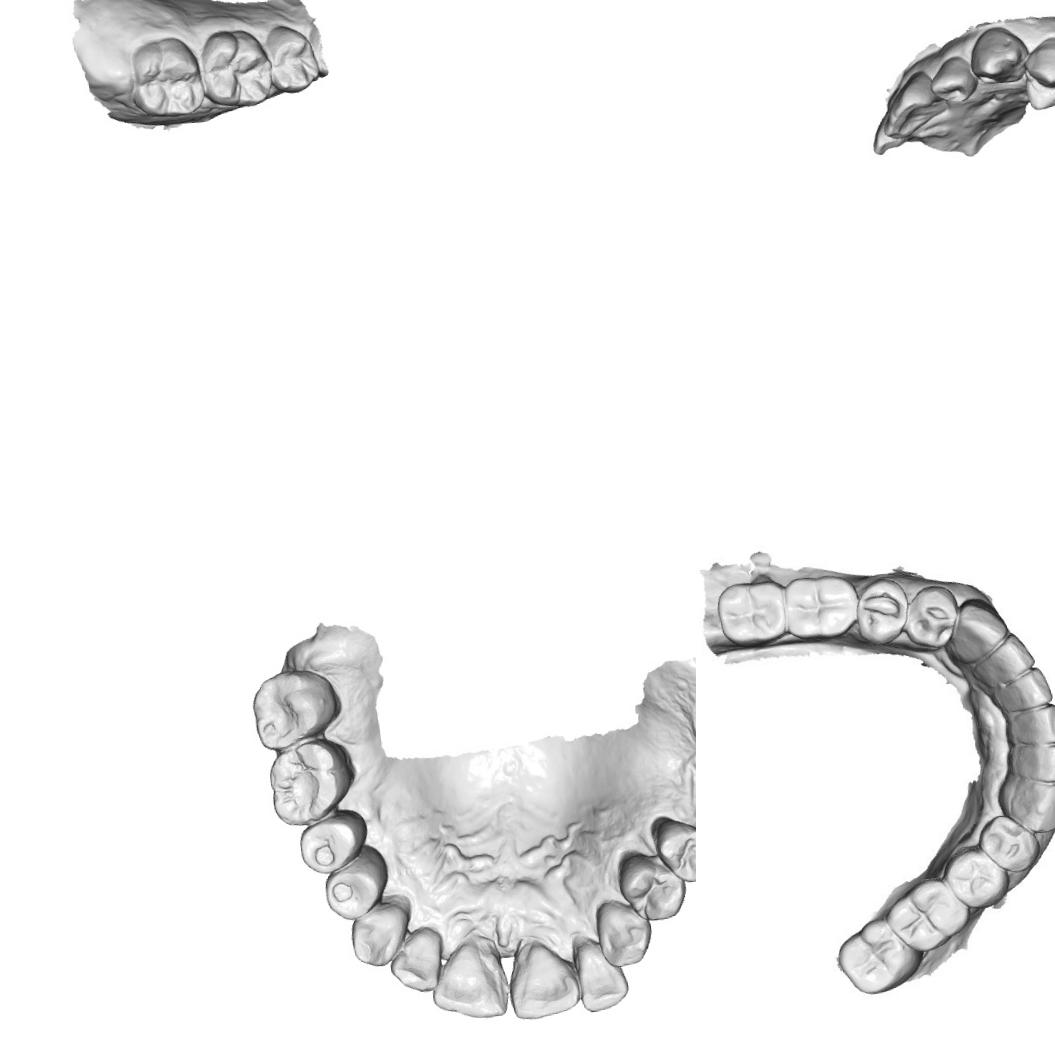canine: (589, 899, 655, 970), (345, 902, 411, 970), (965, 22, 1032, 88), (950, 596, 1009, 669), (1005, 775, 1055, 839)
incisor: (424, 939, 510, 1028), (500, 934, 584, 1024), (876, 67, 949, 140), (569, 944, 632, 1016), (384, 924, 444, 999), (990, 666, 1054, 712), (927, 52, 979, 107), (975, 637, 1034, 682), (1006, 704, 1055, 751), (866, 107, 907, 160), (1012, 743, 1055, 783)
molar: (262, 739, 363, 829), (247, 664, 346, 755), (125, 31, 206, 120), (195, 25, 276, 112), (888, 879, 968, 955), (716, 572, 790, 648), (836, 917, 910, 992), (784, 572, 860, 645)
premolar: (614, 847, 691, 929), (318, 860, 391, 926), (296, 813, 366, 878), (263, 22, 322, 96), (976, 812, 1040, 878), (948, 845, 1006, 910), (650, 811, 696, 886), (854, 580, 908, 642), (908, 584, 955, 648), (1019, 32, 1055, 112)
